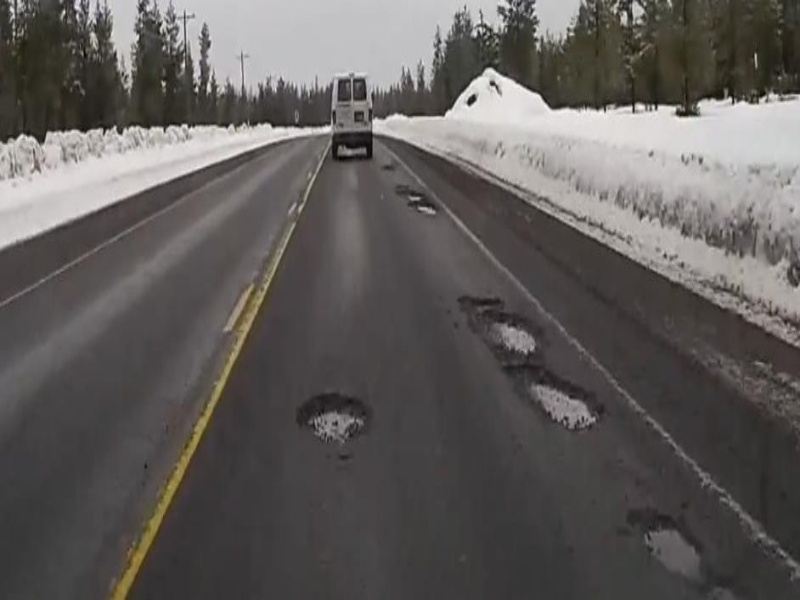pothole: (506, 363, 607, 442), (627, 509, 713, 590), (455, 293, 545, 362), (296, 389, 373, 447), (394, 189, 440, 219)
